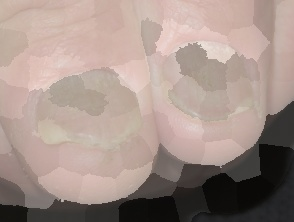Nail_psoriasis: (151, 32, 267, 132), (33, 64, 148, 154)
